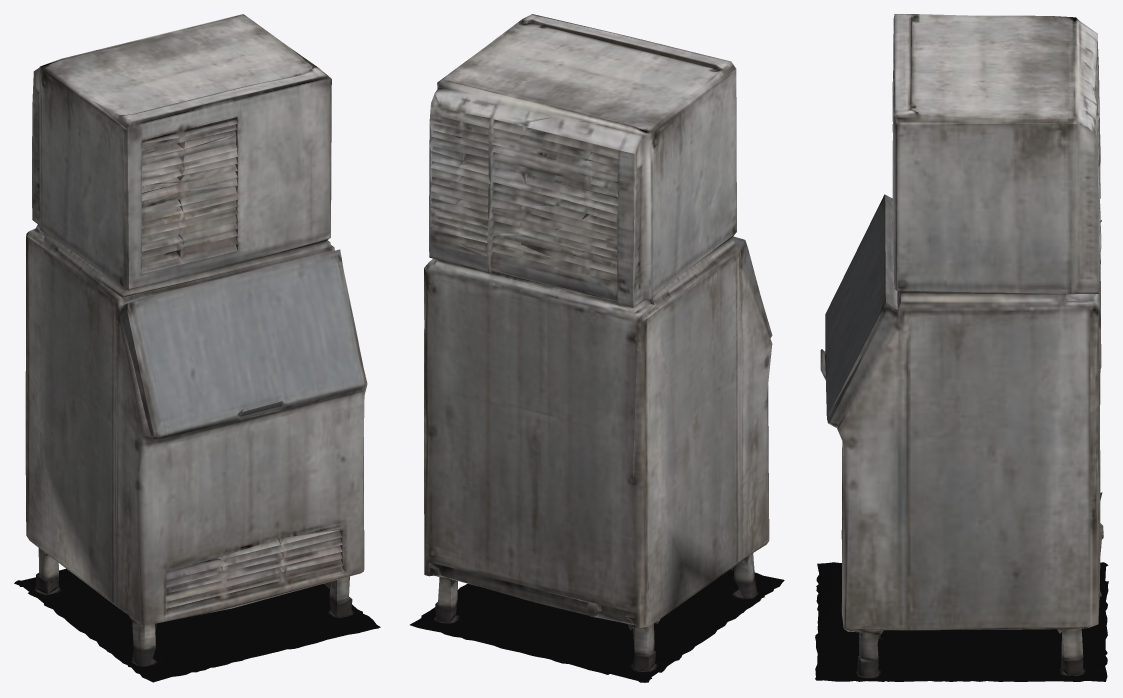
File: p7-ice-machine.glb
3 views of the same model, side by side, from view 1: azimuth 30°, elevation 25°; view 2: azimuth 150°, elevation 25°; view 3: azimuth 270°, elevation 25° (orthographic). The views are drawn at different scales.
Parts seen in each view (by area): view 1: p7-ice-machine; view 2: p7-ice-machine; view 3: p7-ice-machine.
Part boxes in pixels (left/top/right/bottom): p7-ice-machine: left=14, top=14, right=380, bottom=682; p7-ice-machine: left=410, top=14, right=784, bottom=682; p7-ice-machine: left=815, top=14, right=1108, bottom=681.
Size of the model in its own units: 0.7867 by 1.7 by 0.8092.
Materials: 1 (1 with a texture image).
